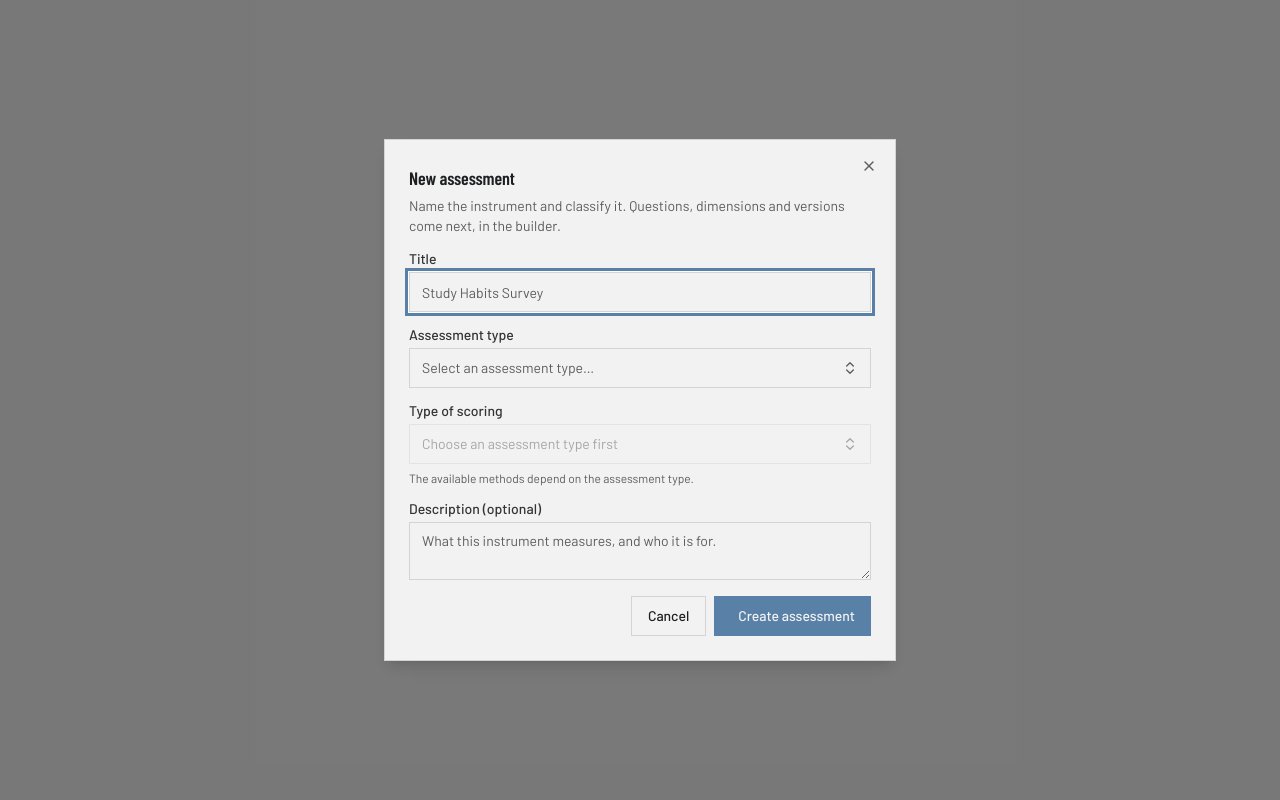
it: AssessmentFormDialog › requires a title and a type before it will save
This screenshot has width=1280, height=800.
Click the button "Create assessment": (793, 616) top-left (714, 596), bottom-right (871, 636)
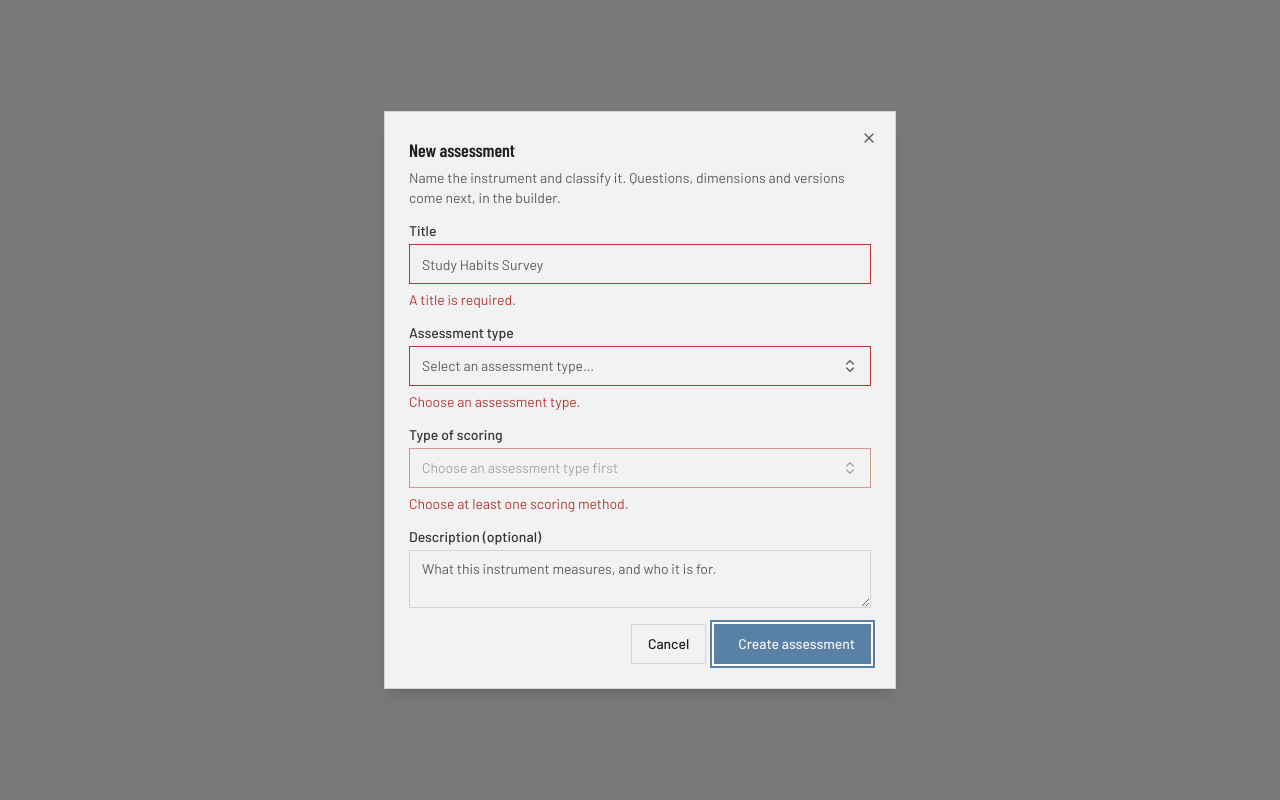
Now the text "A title is required." is shown, box top-left (409, 291), bottom-right (516, 308)
Now the text "Choose an assessment type." is shown, box top-left (409, 393), bottom-right (580, 410)
